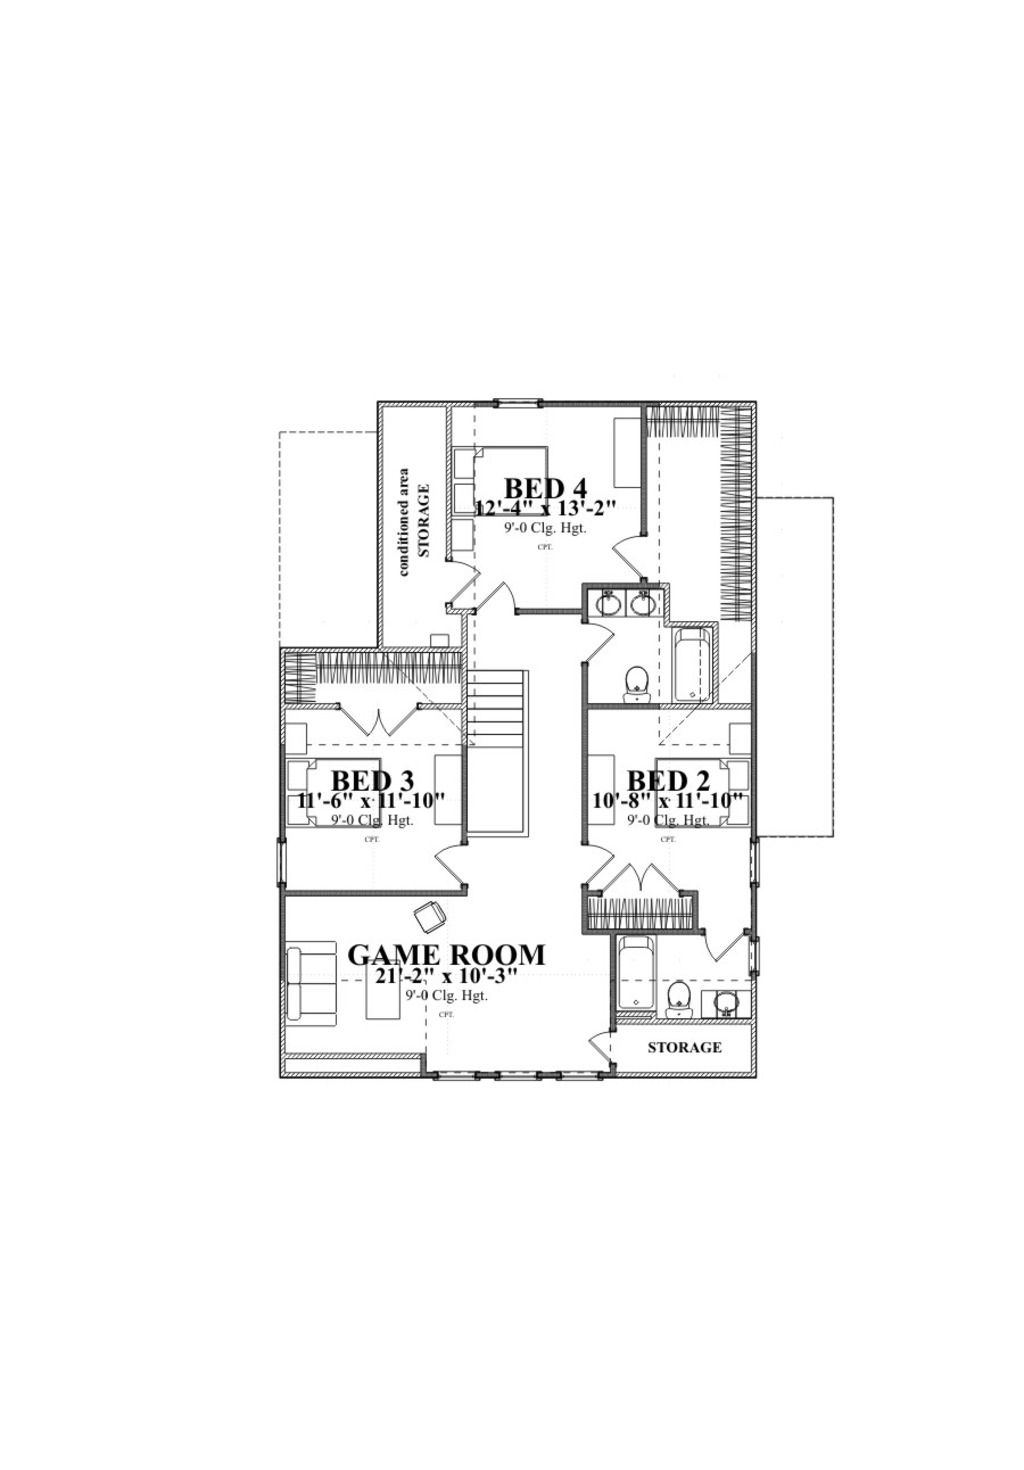bed: (440, 420, 567, 547), (650, 736, 760, 846), (290, 758, 376, 844)
door: (345, 668, 422, 745), (615, 840, 683, 908), (442, 547, 506, 611), (618, 525, 677, 585), (484, 570, 536, 623), (700, 913, 750, 963), (572, 618, 620, 666), (429, 829, 477, 877), (574, 840, 622, 888), (581, 1022, 626, 1068)
large_sink: (655, 979, 704, 1027), (620, 656, 667, 703)
small_sink: (704, 975, 754, 1025), (624, 586, 667, 629), (583, 579, 618, 613)
window: (503, 388, 529, 416)
